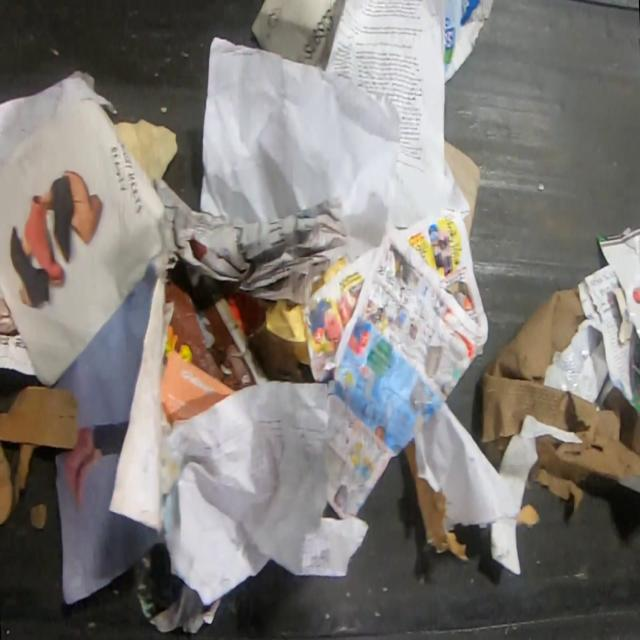cardboard: (478, 285, 640, 517), (489, 416, 583, 576), (0, 384, 80, 527), (596, 225, 640, 345)
